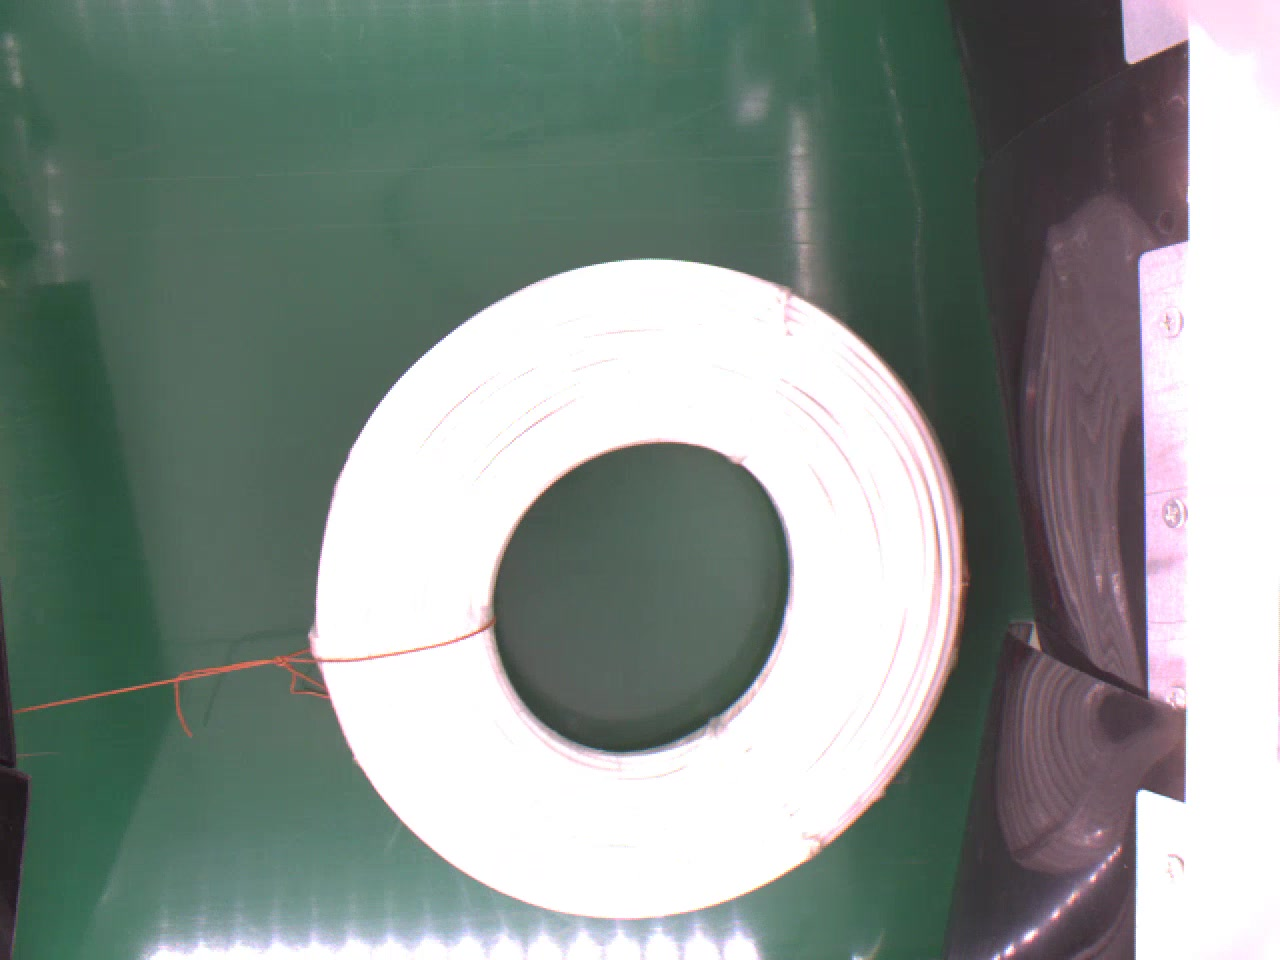white: (310, 246, 992, 918)
